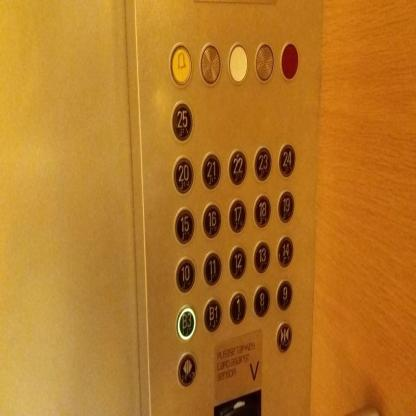1: (228, 290, 247, 324)
10: (174, 253, 197, 294)
11: (200, 248, 223, 288)
12: (226, 242, 247, 281)
13: (252, 238, 271, 274)
14: (276, 232, 294, 268)
15: (172, 204, 196, 244)
16: (200, 201, 221, 240)
17: (228, 196, 247, 235)
18: (252, 191, 271, 230)
19: (276, 187, 295, 224)
20: (171, 153, 195, 195)
21: (200, 150, 221, 190)
22: (227, 146, 248, 188)
23: (252, 144, 272, 183)
24: (277, 140, 296, 178)
25: (171, 97, 194, 142)
8: (252, 283, 271, 318)
9: (274, 277, 294, 311)
B1: (202, 296, 223, 334)
B3: (175, 303, 196, 342)
alarm: (168, 41, 194, 86)
close: (275, 321, 293, 354)
empty: (226, 41, 248, 85), (278, 41, 298, 80)
open: (175, 350, 198, 388)
speaker: (197, 39, 222, 87), (253, 39, 274, 85)
